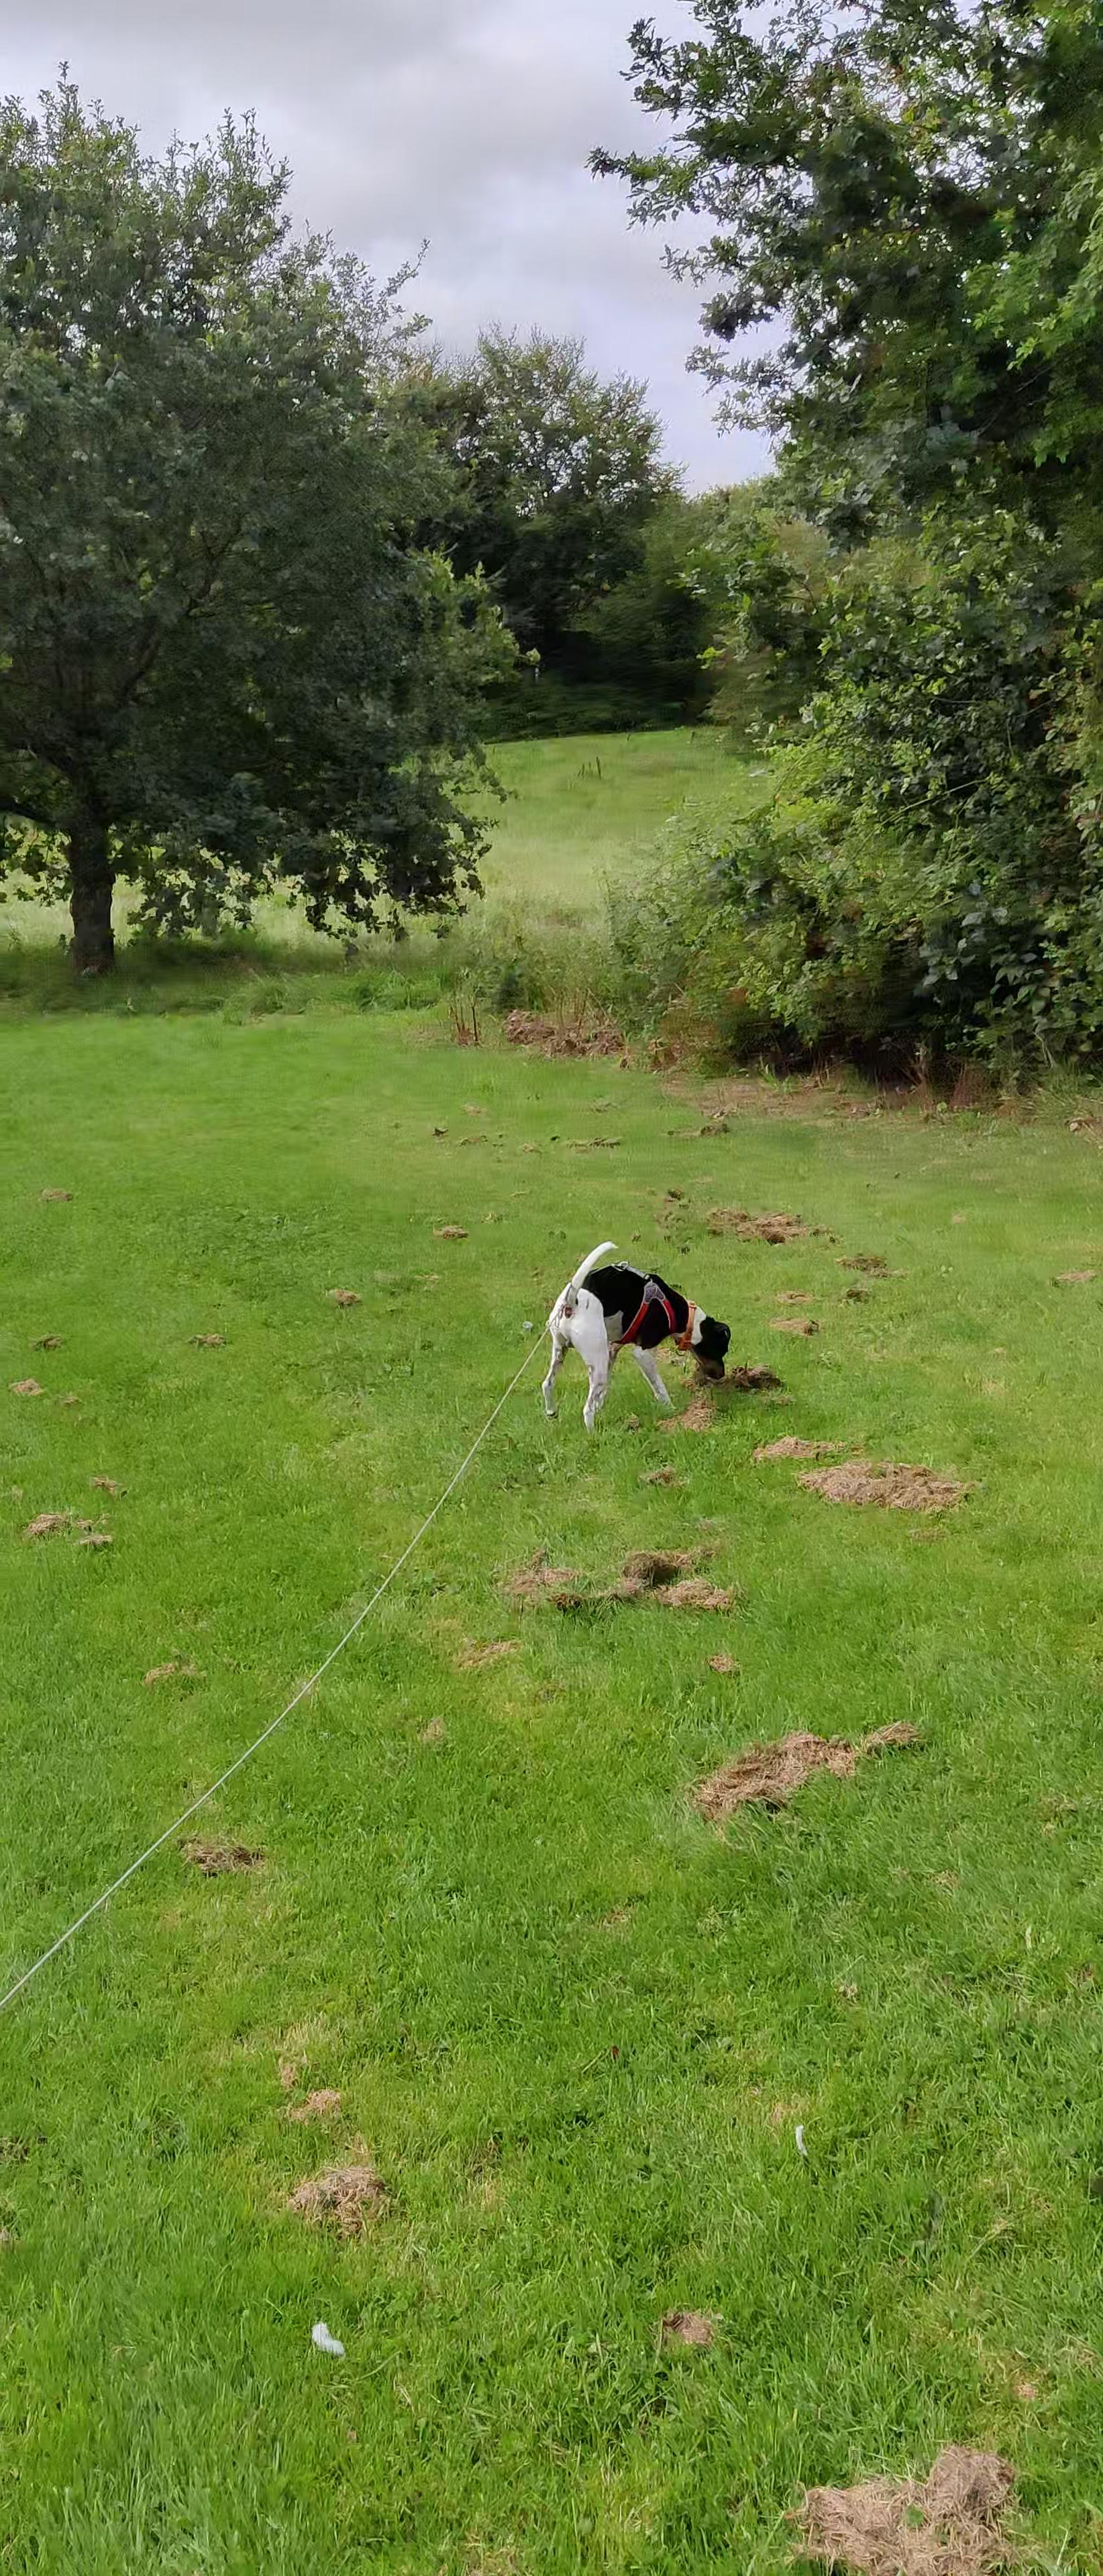Dog: (538, 1229, 730, 1433)
